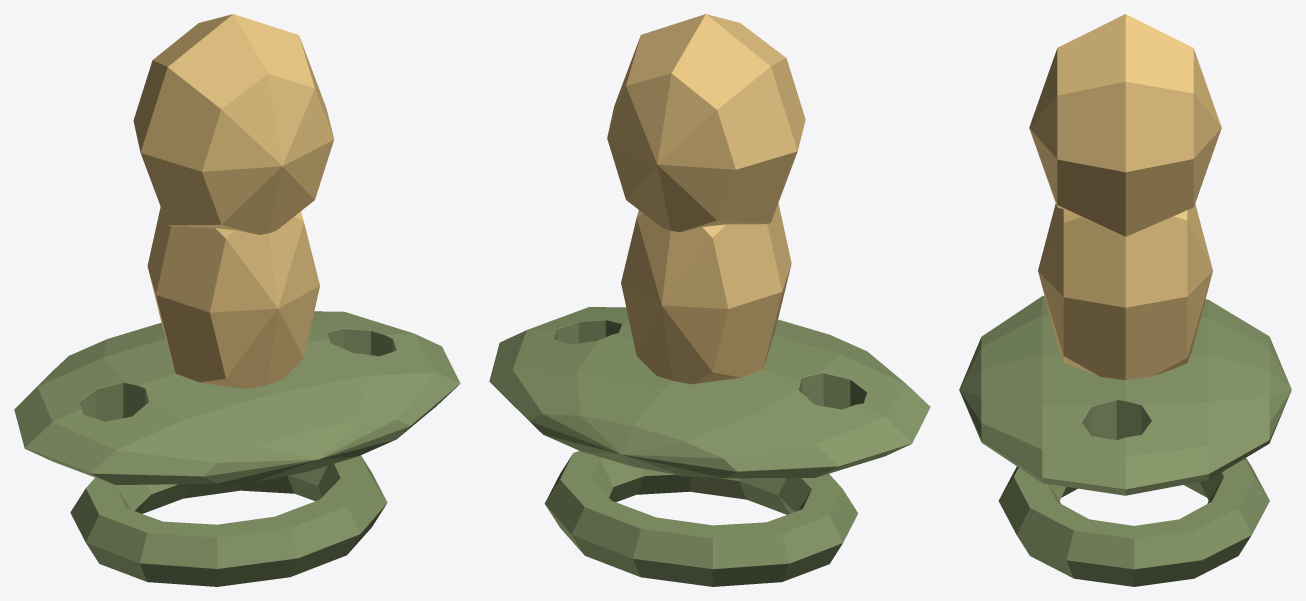
Rendered from pacifier.glb.
The picture shows the model from 3 angles, left to right: view 1: azimuth 30°, elevation 25°; view 2: azimuth 150°, elevation 25°; view 3: azimuth 270°, elevation 25°; orthographic projection. The views are drawn at different scales.
Visible parts, largest first — view 1: pacifier; view 2: pacifier; view 3: pacifier.
Boxes of the visible parts, x1,y1,x2,y2 form: pacifier: (14, 14, 460, 586); pacifier: (489, 14, 930, 586); pacifier: (959, 14, 1291, 586).
Size of the model in its own units: 0.0539 by 0.0644 by 0.038.
